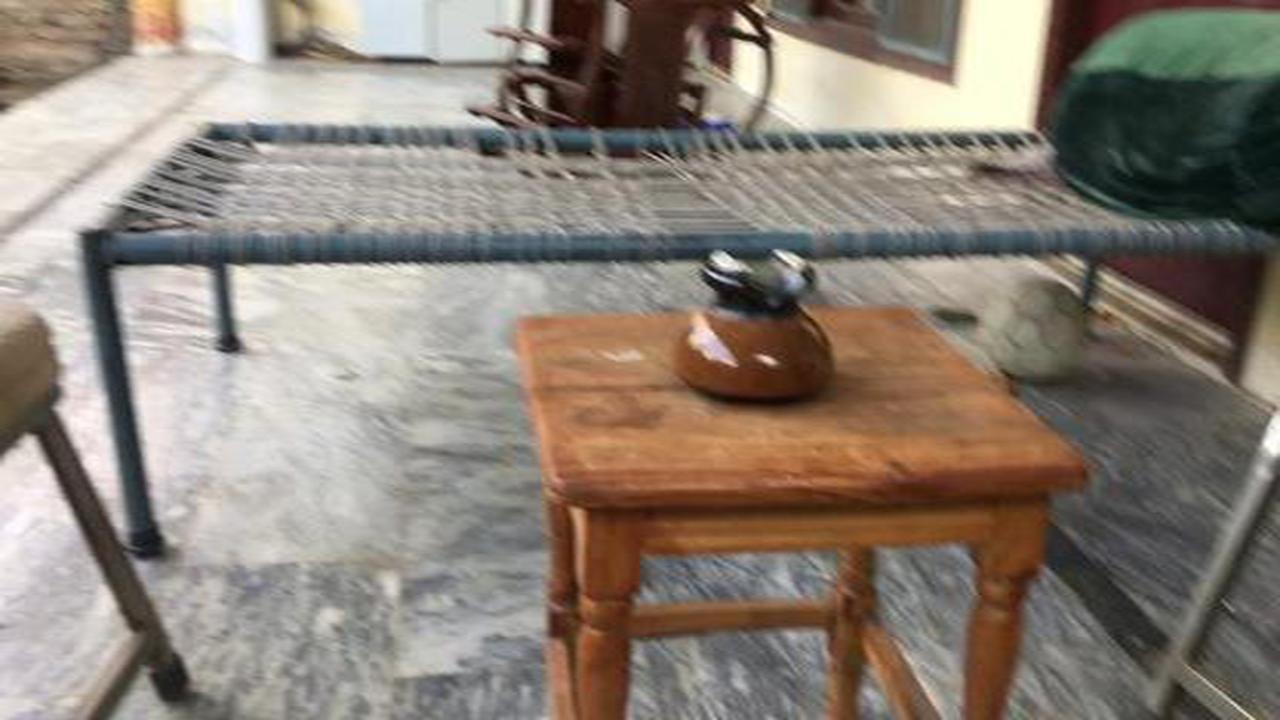insulator_pin: (650, 230, 859, 426)
